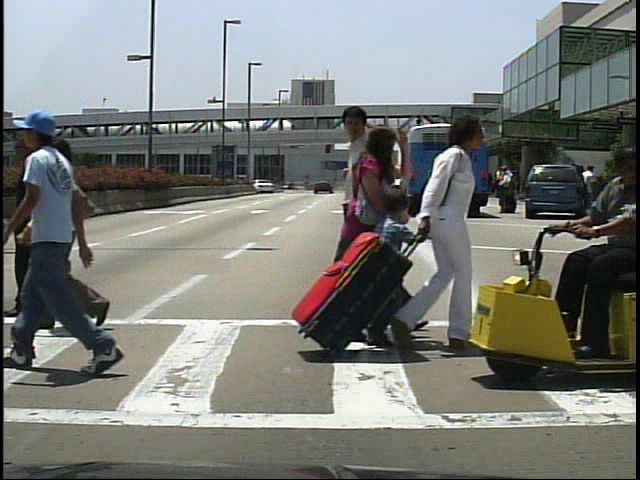person: (23, 105, 131, 388), (379, 109, 490, 360), (333, 101, 425, 350), (559, 156, 640, 360), (346, 123, 409, 355), (31, 135, 96, 328), (14, 130, 71, 324), (371, 183, 416, 318), (582, 164, 602, 219), (498, 166, 516, 219), (499, 165, 518, 214)
